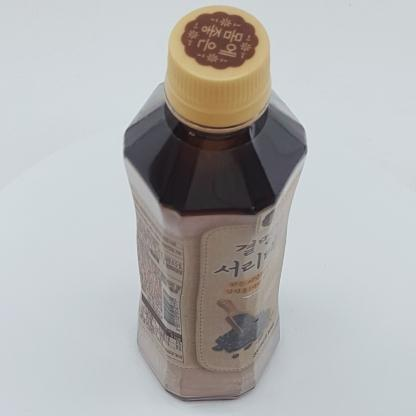----------350ML: (123, 5, 308, 401)
